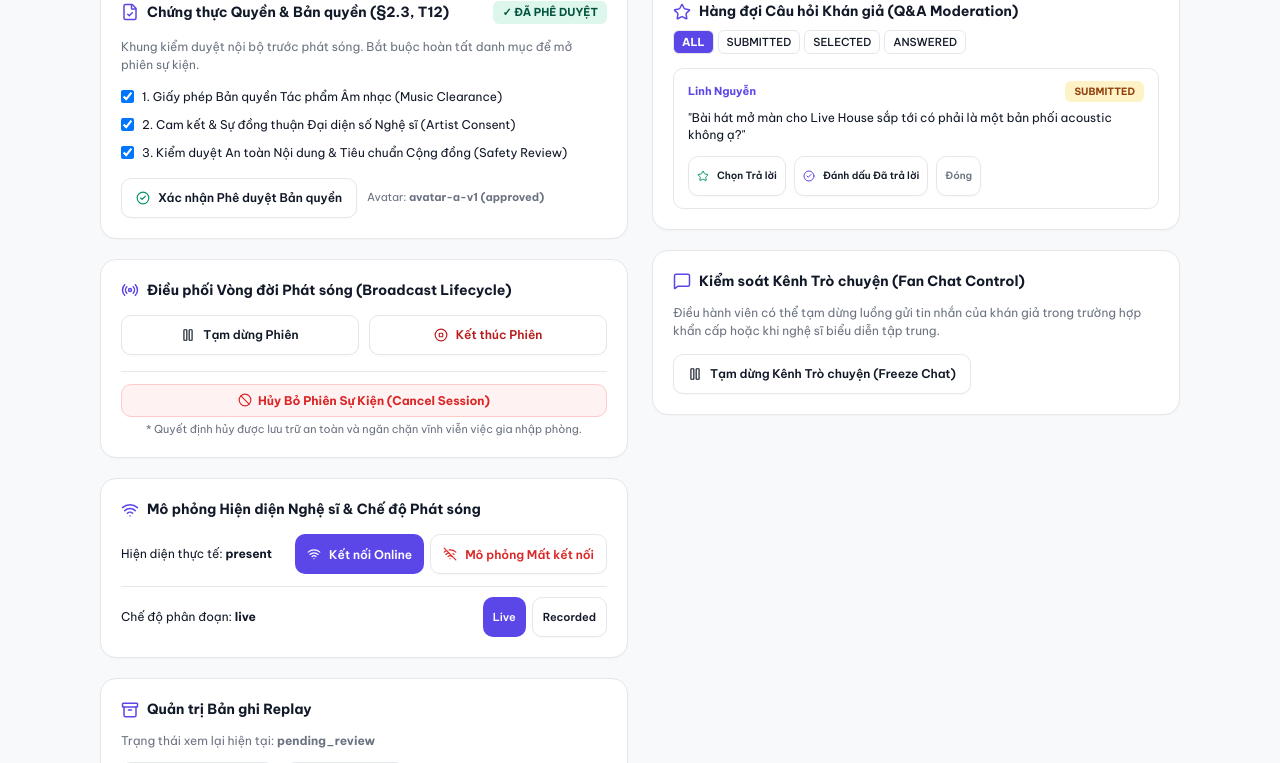
Test: T12 Acceptance: Operator Session Console & Orchestration › 3. Fan View Propagation & Moderation Sync › Cancelled session displays cancellation banner and cannot be joined
The width and height of the screenshot is (1280, 763).
(page scrolled)
# Click Cancel Session
Step 1. Click the button with test id "cancel-session-btn" → (364, 400), box [121,384,607,416]
(page scrolled)
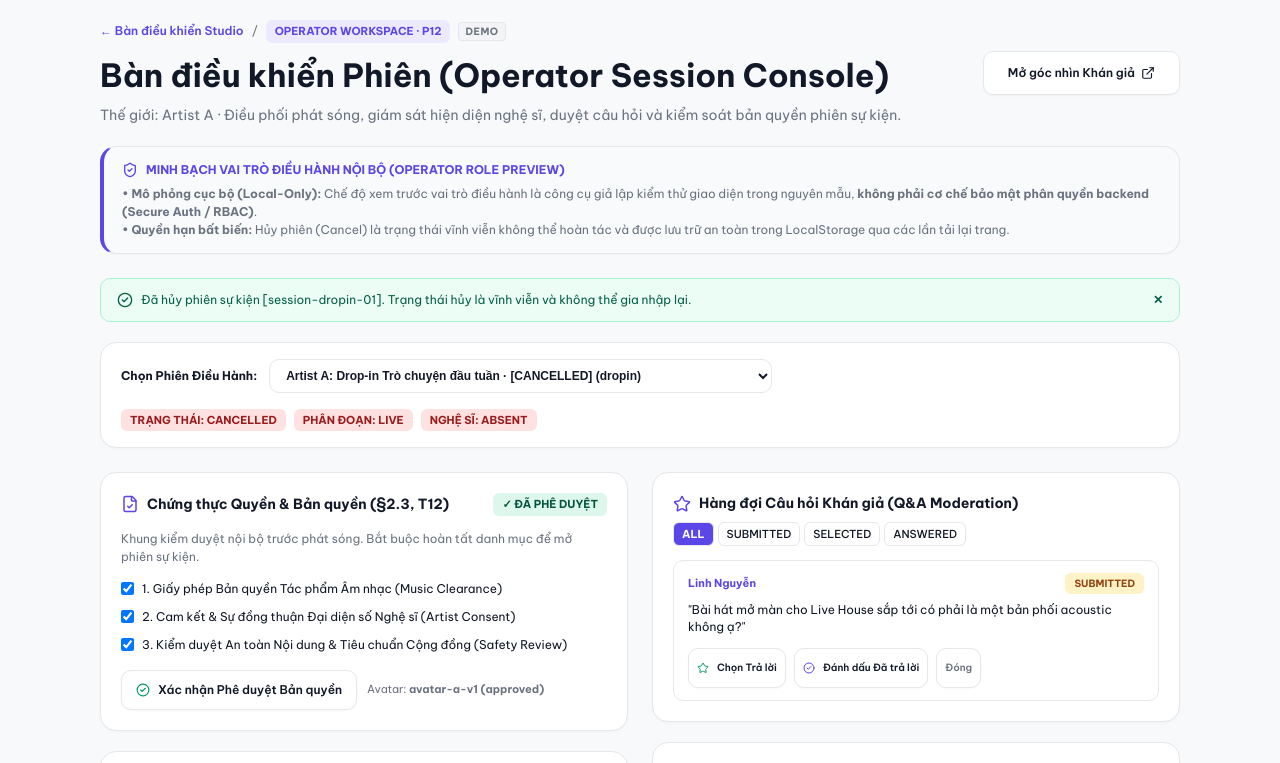
Check: the text "Đã hủy phiên sự kiện" is shown, box [141,292,691,306]
# Navigate to Fan Stage View
Step 2. Click the link with test id "view-fan-stage-link" → (1081, 72), box [983,50,1180,94]
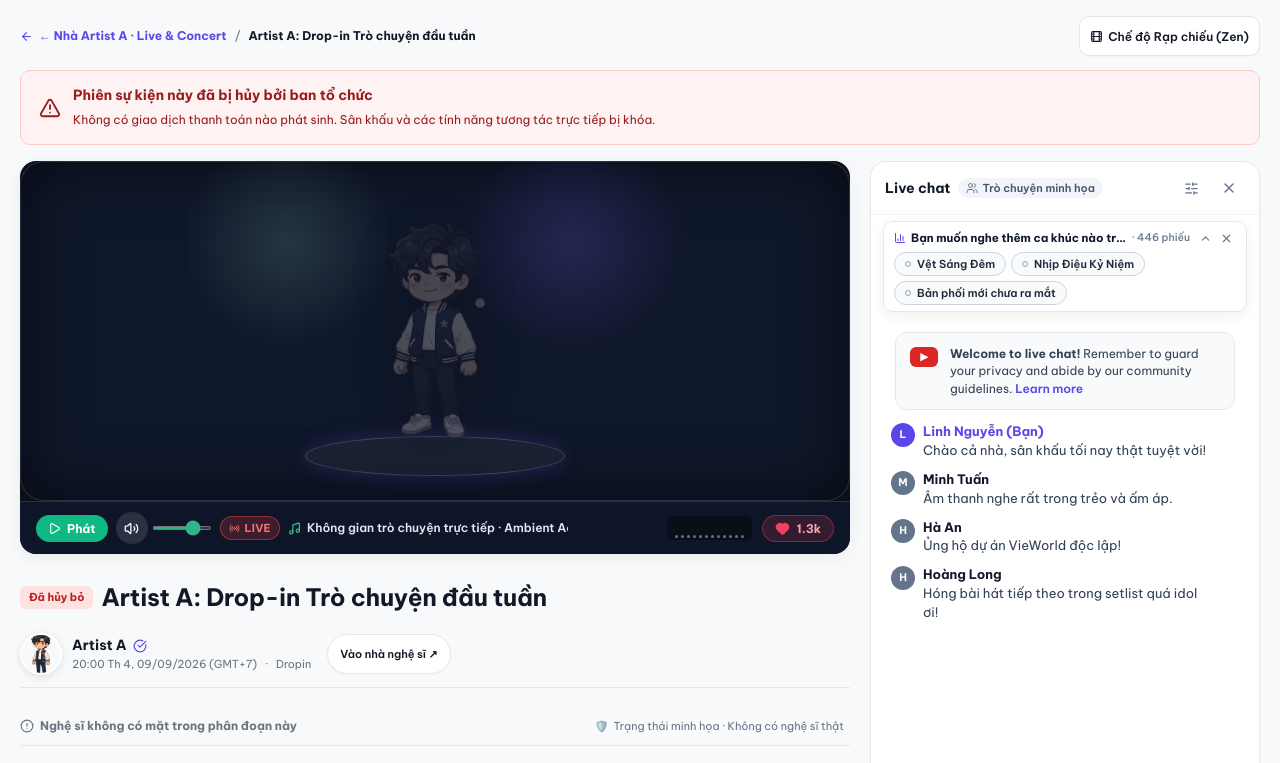
Check: the element with test id "cancelled-session-alert" is shown, box [20,70,1260,145]
Check: the text "Phiên sự kiện này đã bị hủy bởi ban tổ chức" is shown, box [73,86,373,104]
